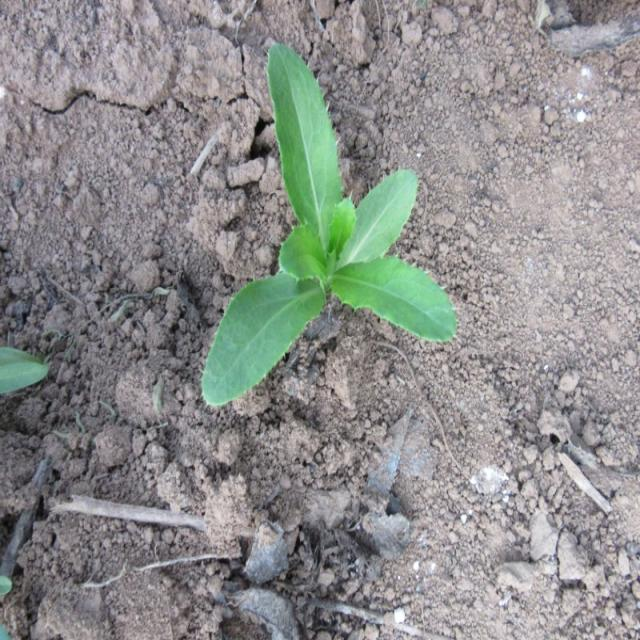cs: (200, 36, 460, 415)
